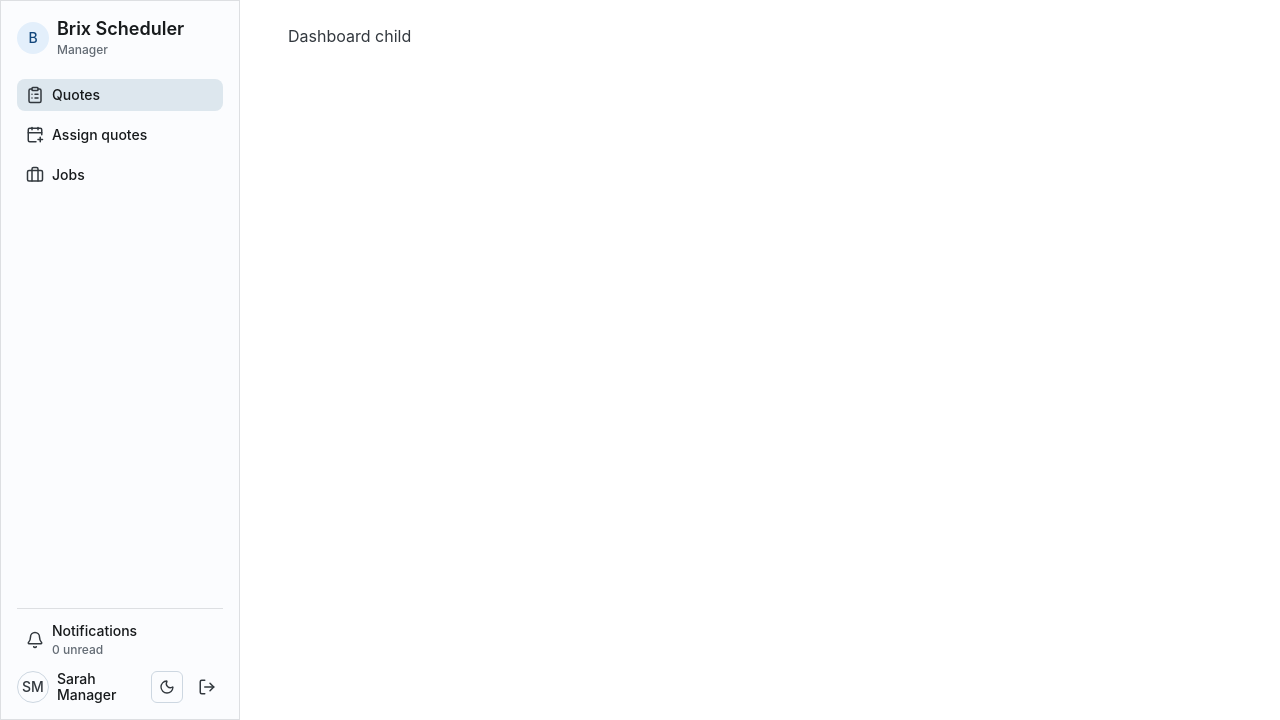
Test case: app shell › Notification drawer renders an empty state
Click the button with aria-label "Open notifications".
click(82, 639)  # box x1=26 y1=622 x2=137 y2=657
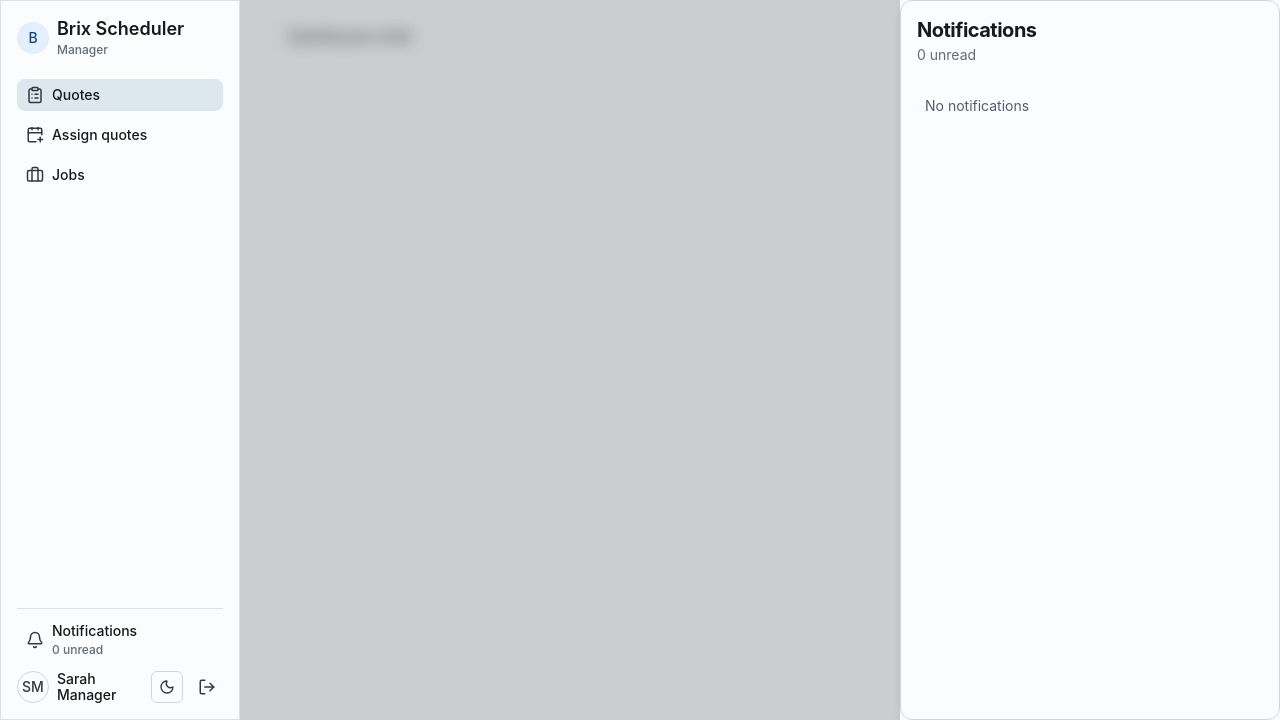
Expected: the dialog "Notifications" shows "No notifications", x1=925 y1=97 x2=1029 y2=114
